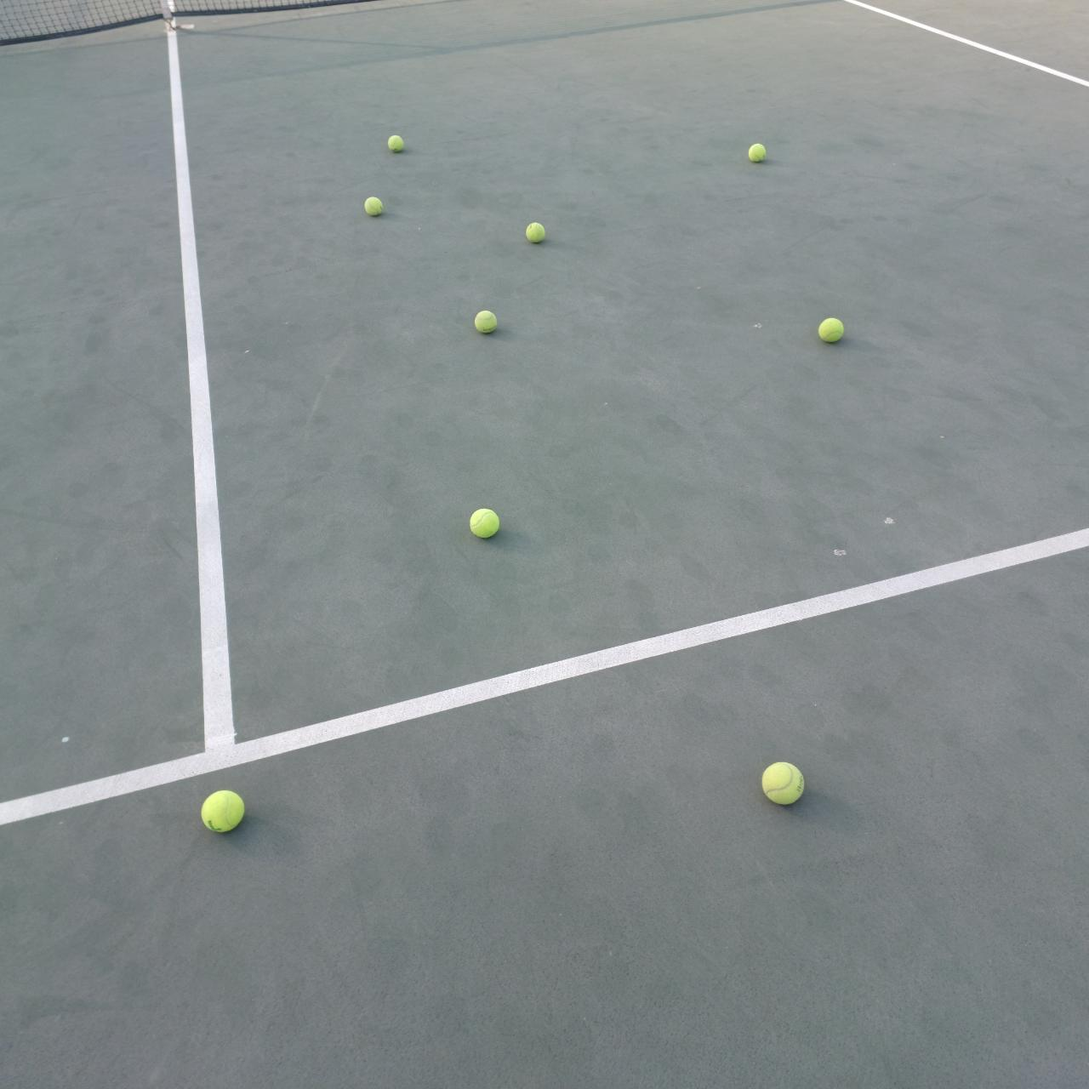tennis-ball: (199, 787, 245, 833), (760, 759, 805, 806), (467, 505, 500, 539), (816, 315, 844, 343), (472, 307, 497, 334), (523, 220, 545, 242), (362, 194, 384, 216), (746, 140, 767, 162), (385, 132, 404, 152)
